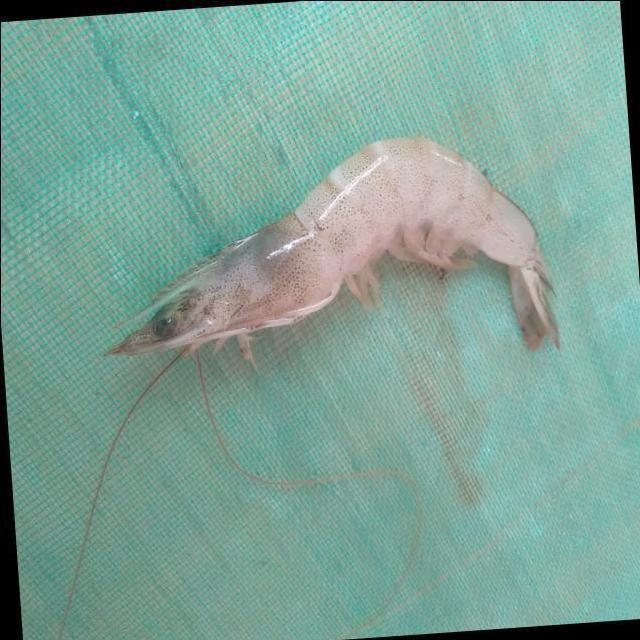shrimp: (105, 136, 559, 358)
